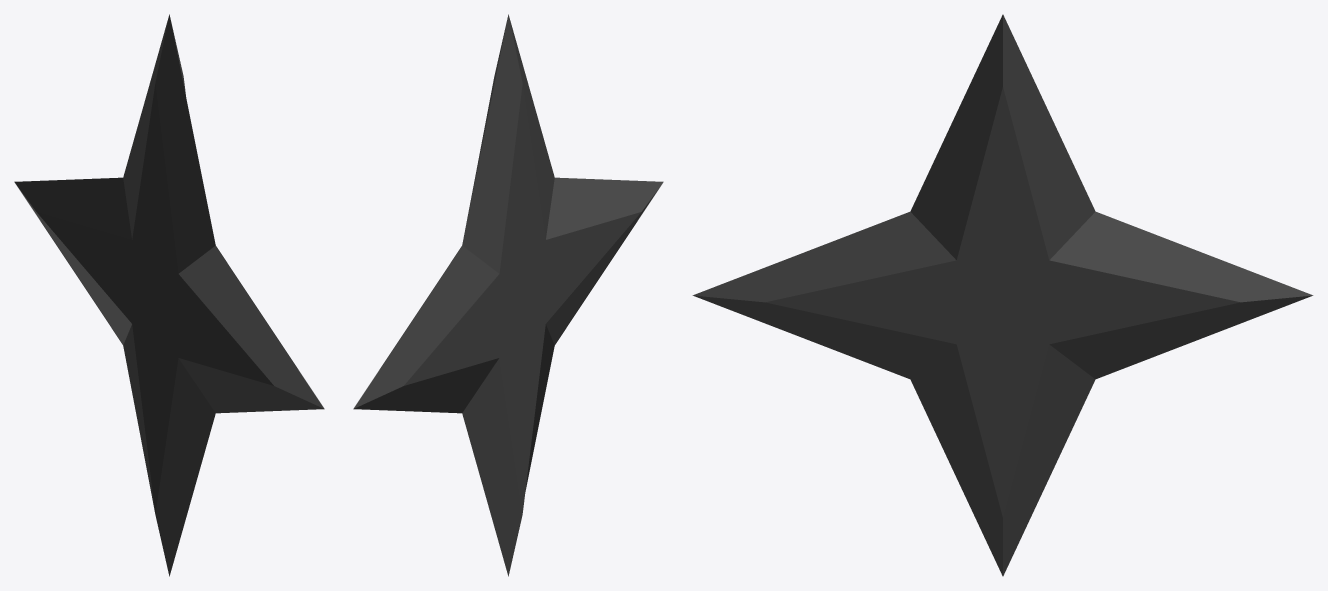
File: shuriken.gltf
3 renders of one model, left to right at view 1: azimuth 30°, elevation 25°; view 2: azimuth 150°, elevation 25°; view 3: azimuth 270°, elevation 25°, orthographic.
Parts seen in each view (by area): view 1: cube; view 2: cube; view 3: cube.
Boxes of the visible parts, x1=… form: cube: x1=14, y1=14, x2=324, y2=576; cube: x1=353, y1=14, x2=663, y2=576; cube: x1=692, y1=14, x2=1313, y2=576.
Size of the model in its own units: 0.0281 by 0.5344 by 0.5344.
1 material, 1 textured.
